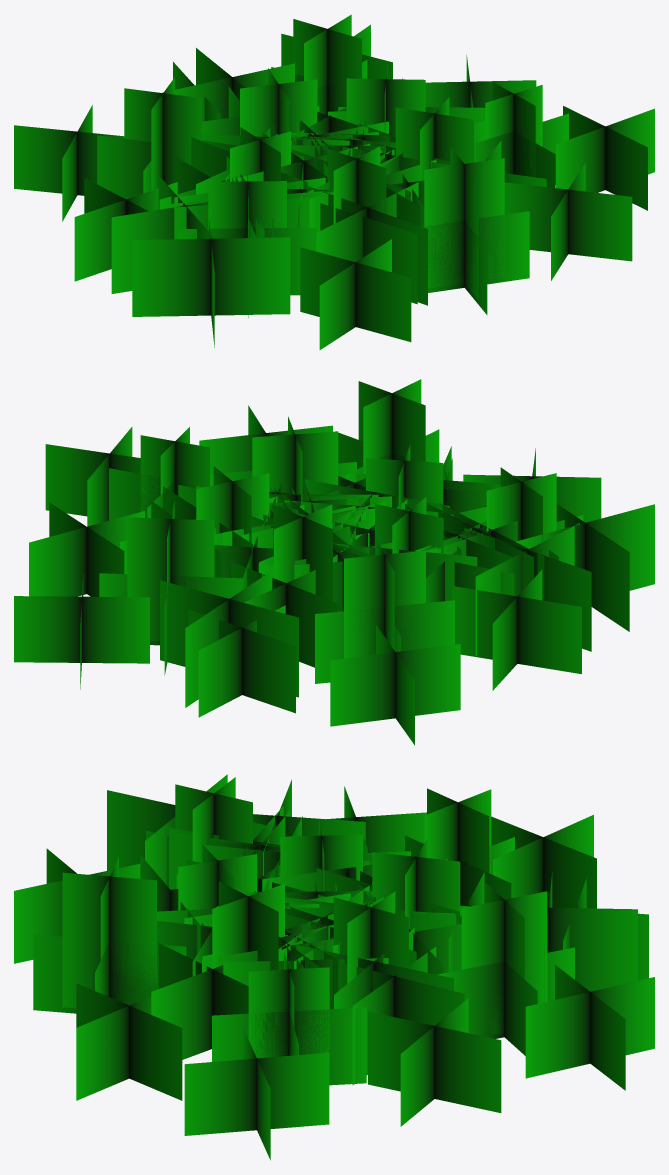
The model's file is Grass_4.fbx.
3 views of the same model, one above another, from view 1: azimuth 30°, elevation 25°; view 2: azimuth 150°, elevation 25°; view 3: azimuth 270°, elevation 25° (orthographic). The views are drawn at different scales.
Parts seen in each view (by area): view 1: Grass_4; view 2: Grass_4; view 3: Grass_4.
Part boxes in pixels (x1=…): Grass_4: x1=14, y1=14, x2=654, y2=349; Grass_4: x1=14, y1=379, x2=654, y2=745; Grass_4: x1=14, y1=774, x2=654, y2=1160.
Bounding box in the file's own units: 1127 × 244 × 1012.
